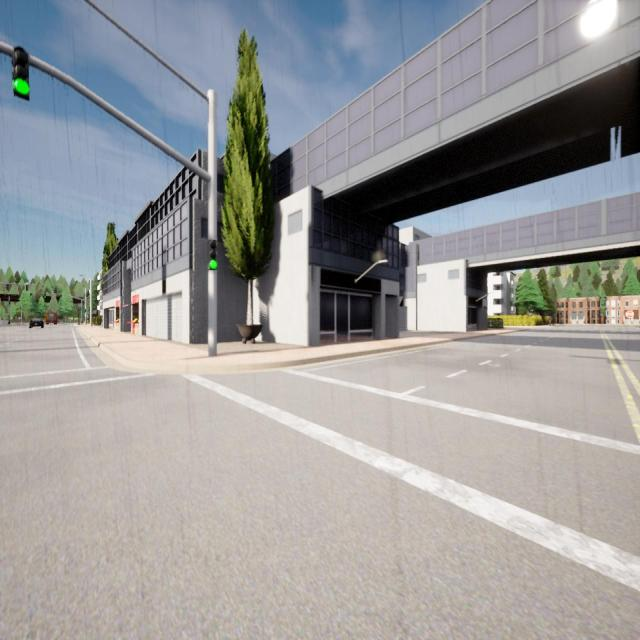Traffic_Signs: (625, 310, 634, 319)
Vehicle: (45, 311, 58, 325), (29, 317, 44, 328)
traffic_light: (13, 46, 29, 100), (207, 239, 218, 270), (6, 284, 9, 290), (30, 292, 32, 298), (26, 285, 28, 291), (44, 294, 46, 298), (60, 294, 62, 298), (88, 290, 89, 295), (86, 292, 87, 296), (87, 292, 88, 296), (85, 310, 86, 312)
